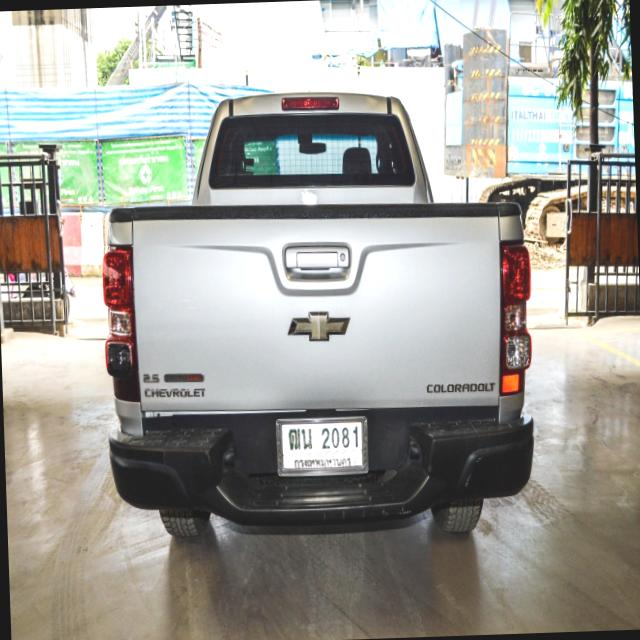license_plate: (276, 413, 370, 476)
